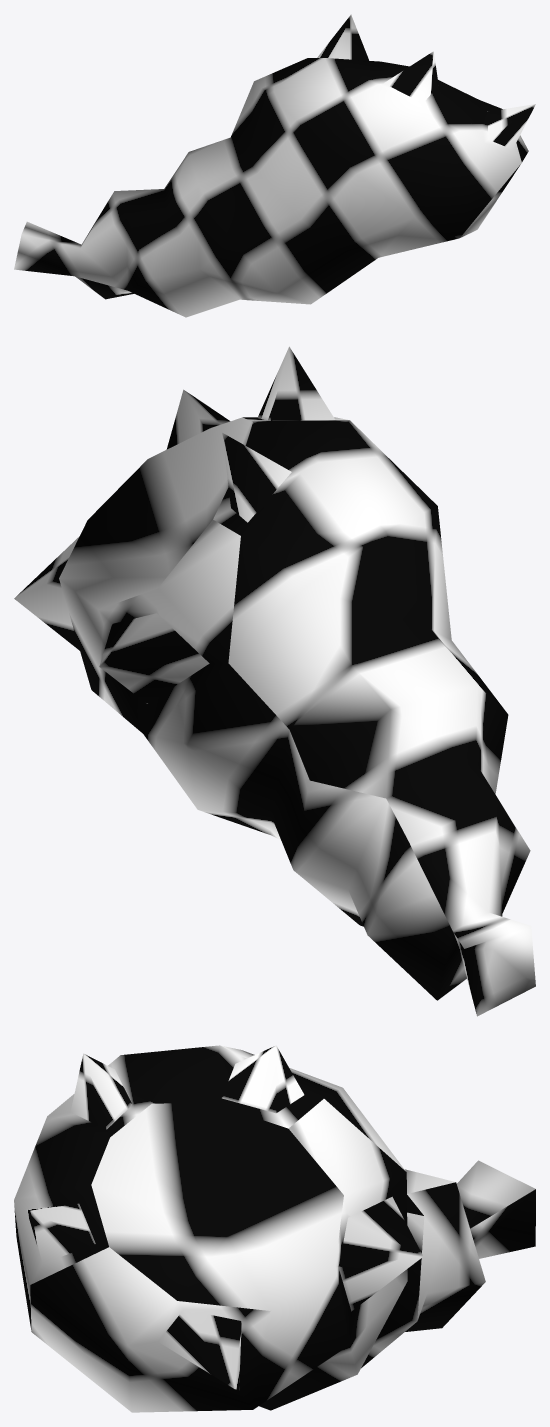
File: initqi38.dae
The picture shows the model from 3 angles, top to bottom: view 1: azimuth 30°, elevation 25°; view 2: azimuth 150°, elevation 25°; view 3: azimuth 270°, elevation 25°; orthographic projection. The views are drawn at different scales.
Visible parts, largest first — view 1: item; view 2: item; view 3: item.
Part boxes in pixels (x1,y1,x2,y2): item: [14, 14, 535, 317]; item: [14, 346, 535, 1016]; item: [14, 1045, 535, 1412].
Bounding box in the file's own units: 1.6 × 1.13 × 1.03.
Materials: 1 (1 with a texture image).
